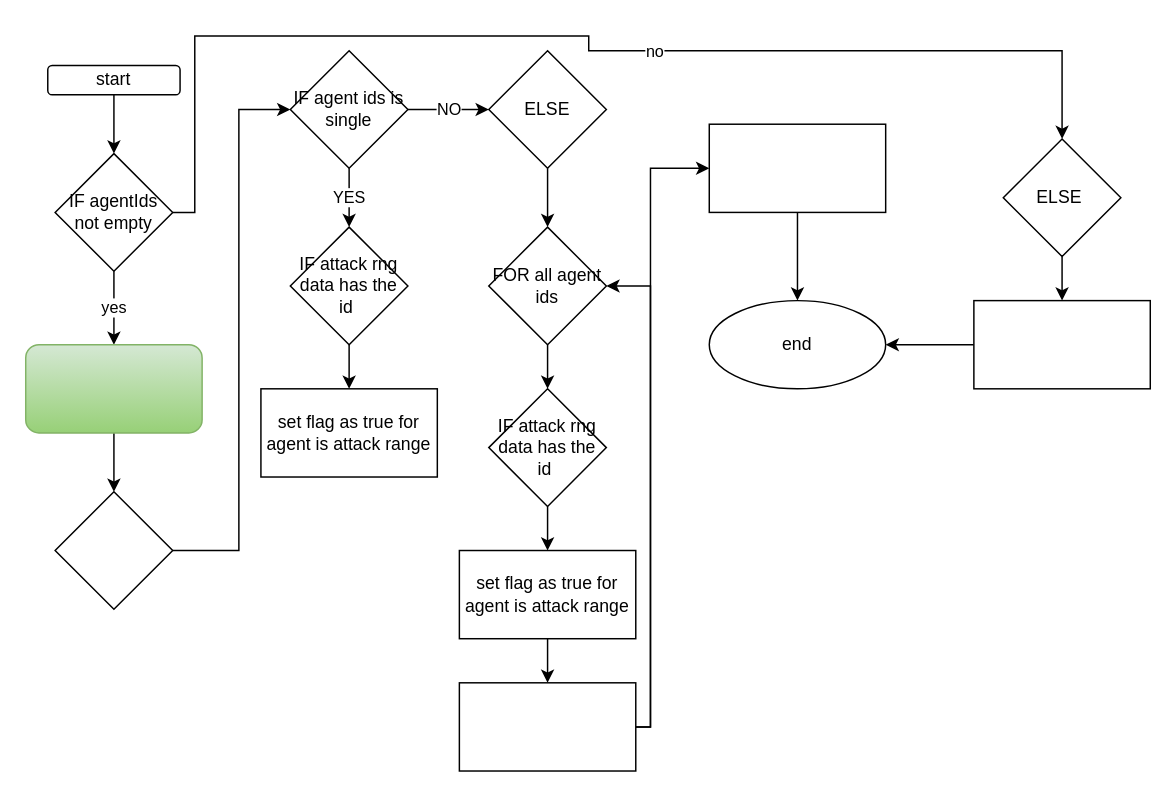
Image size: 1176x797. Some labels were removed from this diagram. Each missing label, with the centre of its shape:
"break the loop" belongs at (547,726).
"call searchTarget" belongs at (113,388).
"IF attack range not empty" belongs at (113,549).
"return the is target in attack rng boolean" belongs at (797,167).
"User console" belongs at (1061,344).
